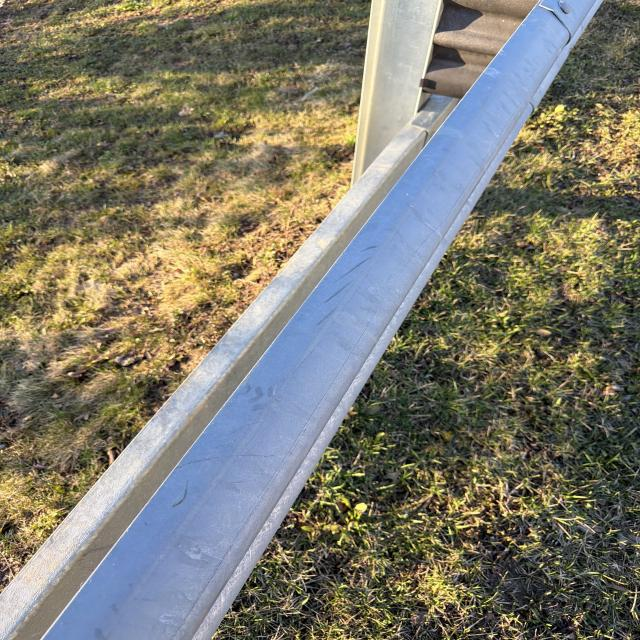Guard rail: (32, 18, 602, 612)
